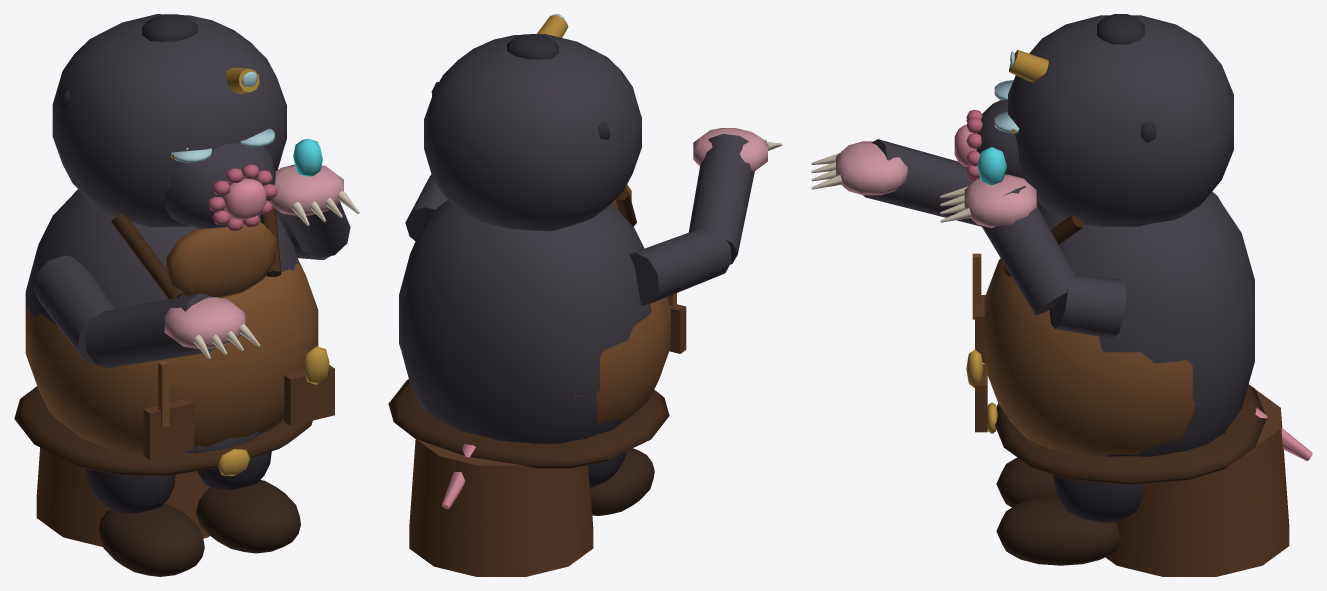
File: gus.glb
3 renders of one model, left to right at view 1: azimuth 30°, elevation 25°; view 2: azimuth 150°, elevation 25°; view 3: azimuth 270°, elevation 25°, orthographic. The views are drawn at different scales.
Visible parts, largest first — view 1: Gus_Body, Gus_Head, Gus_ArmR, Gus_ArmL; view 2: Gus_Body, Gus_Head, Gus_ArmR, Gus_ArmL, Gus_Tail; view 3: Gus_Body, Gus_Head, Gus_ArmL, Gus_ArmR.
Part boxes in pixels (box(x1,y1,x2,y2)): Gus_Body: box(14, 189, 334, 576); Gus_Head: box(52, 14, 286, 230); Gus_ArmR: box(33, 255, 260, 367); Gus_ArmL: box(270, 138, 359, 260); Gus_Body: box(388, 184, 686, 576); Gus_Head: box(424, 14, 641, 231); Gus_ArmR: box(629, 128, 782, 305); Gus_ArmL: box(405, 174, 447, 241); Gus_Tail: box(442, 444, 475, 509); Gus_Body: box(966, 191, 1289, 576); Gus_Head: box(954, 14, 1233, 226); Gus_ArmL: box(940, 147, 1126, 338); Gus_ArmR: box(811, 139, 981, 226).
Size of the model in its own units: 0.8076 by 1.32 by 1.17.
